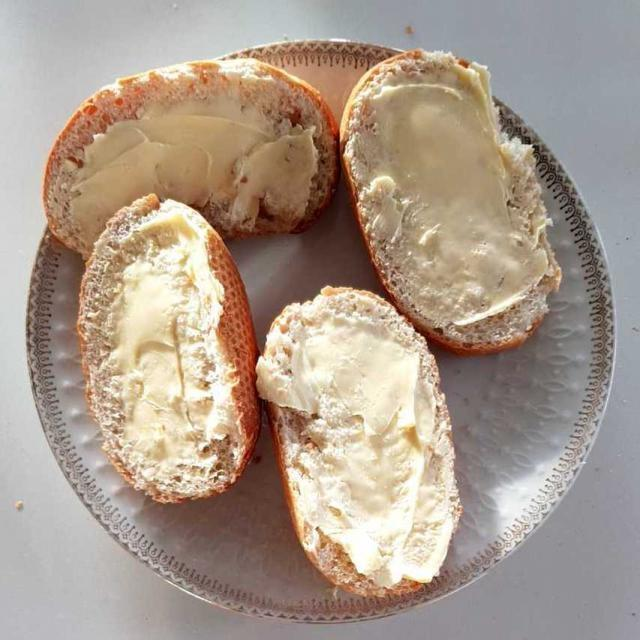bread: (54, 38, 567, 592)
butter: (74, 54, 522, 555)
